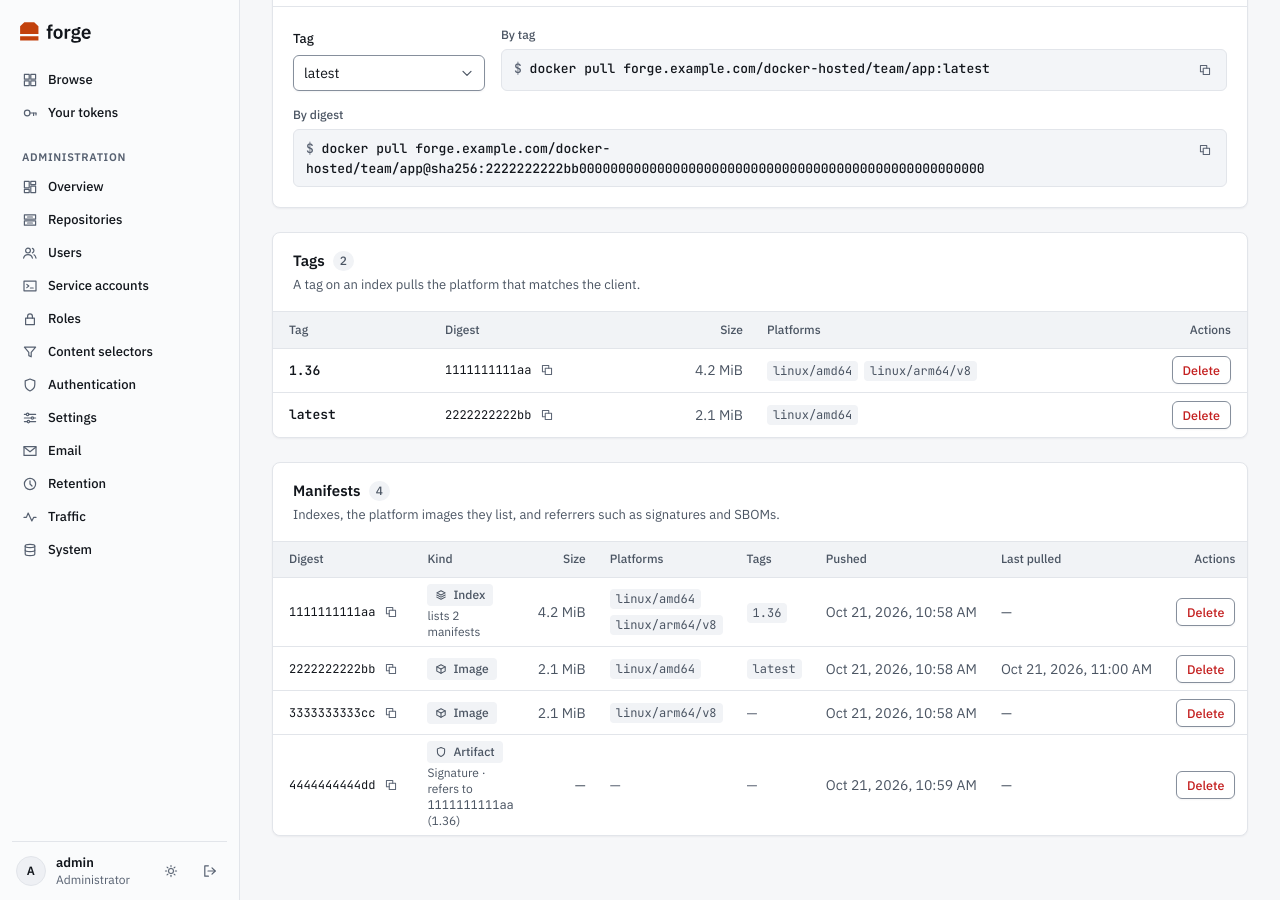
Test case: ImageDetail › deleting (administrators) › warns that an index lists the manifest, and shows a refusal
(page scrolled)
Click the button with aria-label "Delete manifest 3333333333cc" at (1206, 712), box [1176,698,1235,726]
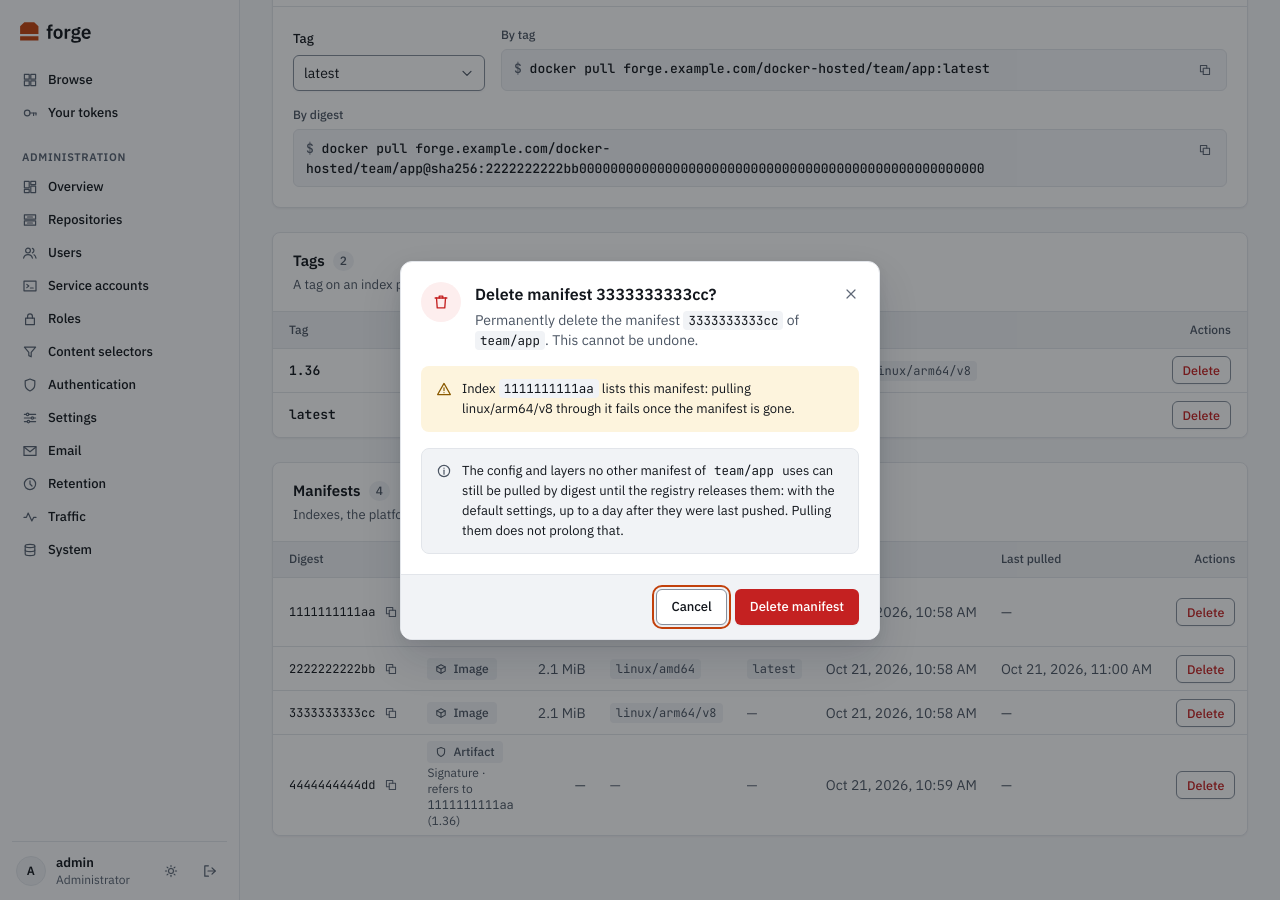
Result: the button "Delete manifest" is enabled
Result: the message that starts with "Index" shows "Index 1111111111aa lists this manifest: pulling linux/arm64/v8 through it fails once the manifest is gone." at [421,366,859,432]
Click the button "Delete manifest" at (797, 606), box [735,588,859,624]
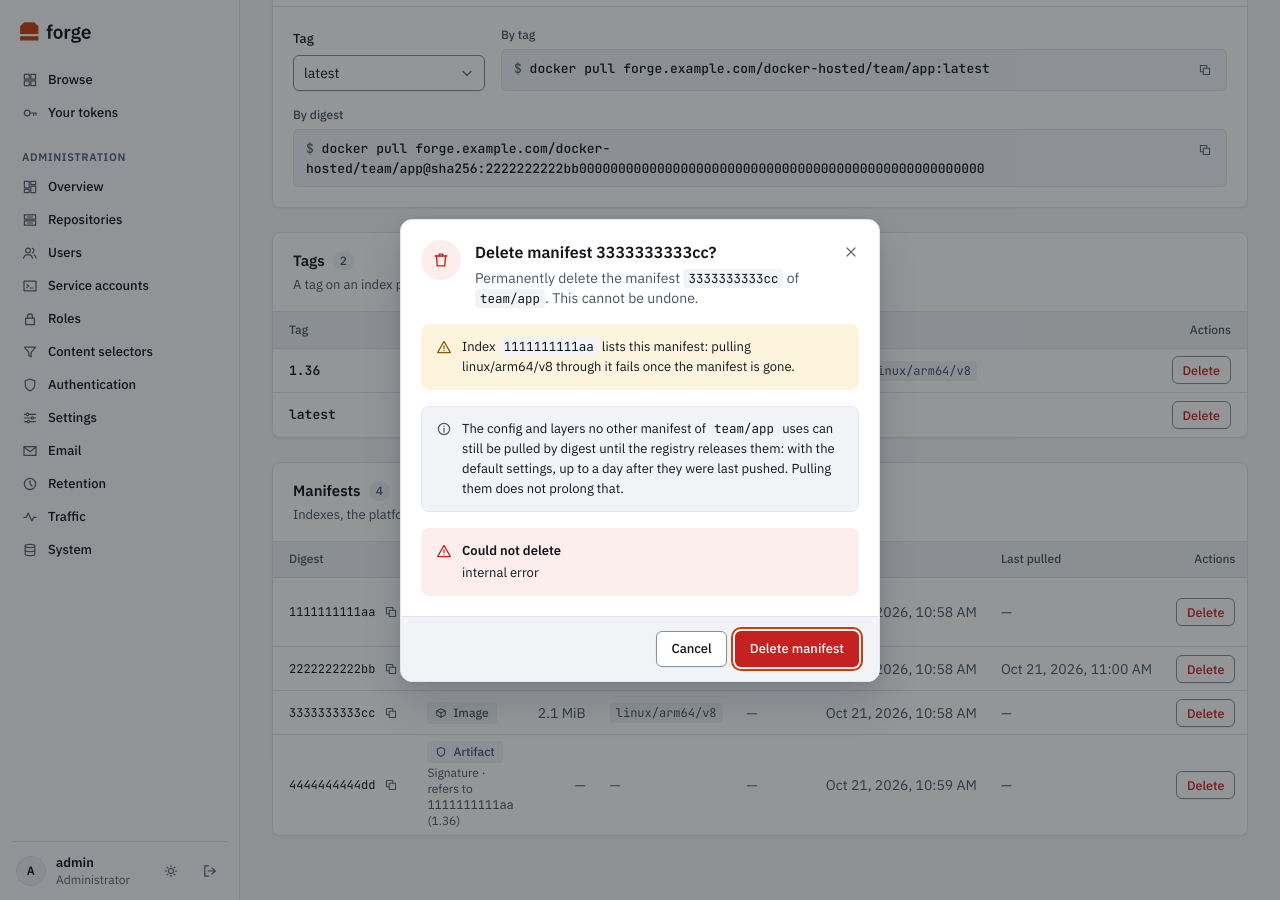
Result: the dialog is shown at [400,218,880,682]
Result: the text "Could not delete" is shown at [462,542,561,558]
Result: the dialog shows "internal error" at [462,564,539,580]
